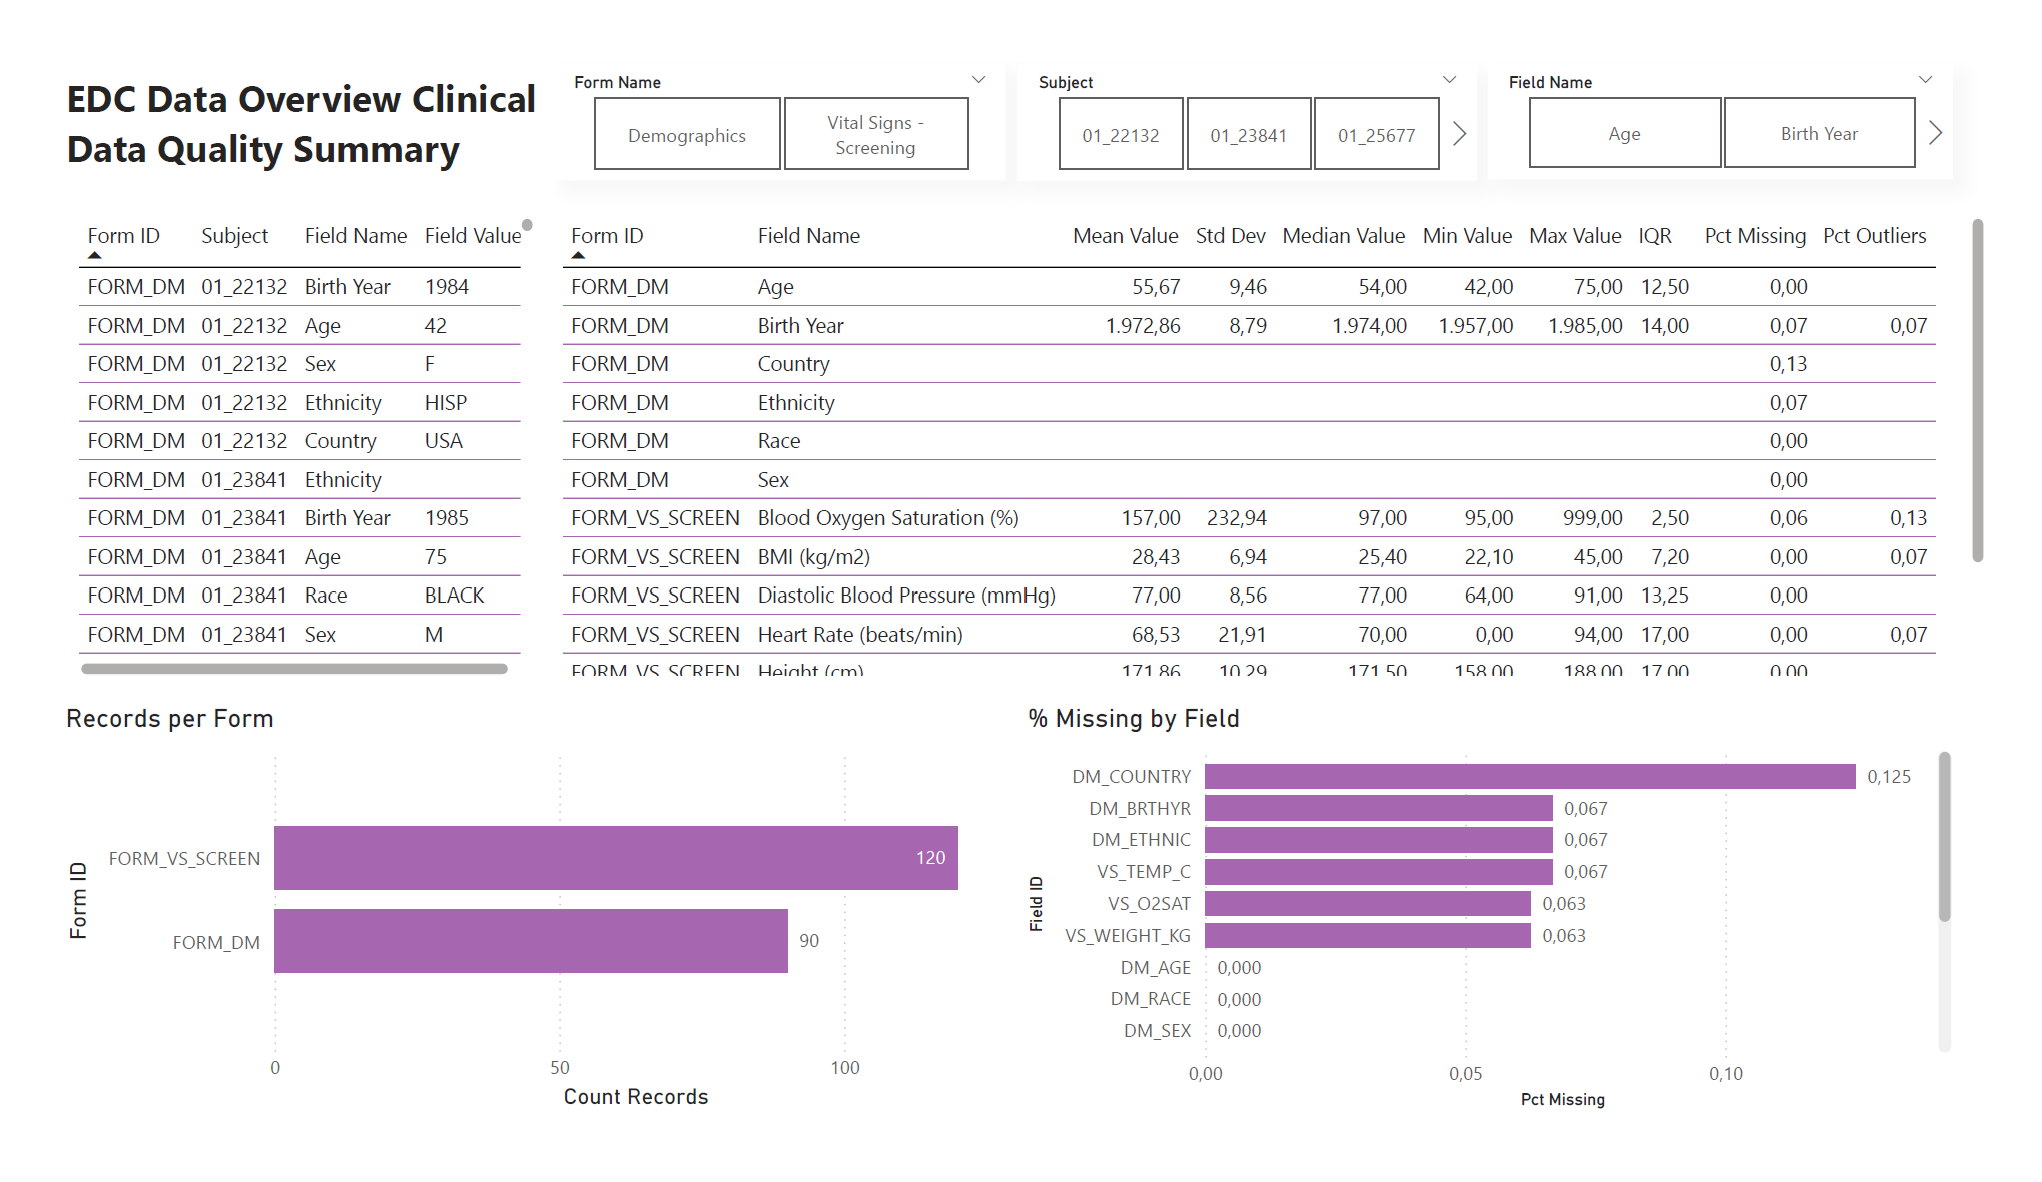

The dashboard page shown, as its layout file describes it:
{"tool":"powerbi","page":{"name":"EDC Data Overview","canvas":[1280,720],"ordinal":0},"visuals":[{"type":"tableEx","fields":{"Values":["dummy_edc_v4.Form ID","dummy_edc_v4.Subject","dummy_edc_v4.Field Name","dummy_edc_v4.Field Value"]},"box":[22.9,112.2,306,307.3],"z":0},{"type":"slicer","fields":{"Values":["dummy_edc_v4.Form Name"]},"box":[336.6,17.8,293.2,75.2],"z":1000},{"type":"tableEx","fields":{"Values":["dummy_edc_v4.Form ID","dummy_edc_v4.Field Name","dummy_edc_v4.Mean Value","dummy_edc_v4.Std Dev","dummy_edc_v4.Median Value","dummy_edc_v4.Min Value","dummy_edc_v4.Max Value","dummy_edc_v4.IQR","dummy_edc_v4.Pct Missing","dummy_edc_v4.Pct Outliers"]},"box":[336.6,112.2,933.2,307.3],"z":2000},{"type":"slicer","fields":{"Values":["dummy_edc_v4.Subject"]},"box":[638.1,17.9,297.3,75.3],"z":3000},{"type":"slicer","fields":{"Values":["dummy_edc_v4.Field Name"]},"box":[943.4,17.8,300.9,73.9],"z":4000},{"type":"clusteredBarChart","title":"Records per Form","fields":{"Category":["dummy_edc_v4.Form ID"],"Y":["dummy_edc_v4.Count Records"]},"box":[15.3,430.9,624.7,269],"z":5000},{"type":"clusteredBarChart","title":"% Missing by Field","fields":{"Category":["dummy_edc_v4.Field ID"],"Y":["dummy_edc_v4.Pct Missing"]},"box":[638.7,430.9,609.4,270.3],"z":6000},{"type":"textbox","box":[15.3,17.8,321.3,94.3],"z":7000}]}

Visuals, with their boxes in screenshot pixels (x1, y1, x2, y2), scaled from the page's 1280x720 canvas onto the 2042x1182 screenshot:
tableEx - dummy_edc_v4.Form ID x dummy_edc_v4.Subject: box=[37, 184, 525, 689]
slicer - dummy_edc_v4.Form Name: box=[537, 29, 1005, 153]
tableEx - dummy_edc_v4.Form ID x dummy_edc_v4.Field Name: box=[537, 184, 2026, 689]
slicer - dummy_edc_v4.Subject: box=[1018, 29, 1492, 153]
slicer - dummy_edc_v4.Field Name: box=[1505, 29, 1985, 151]
"Records per Form" clusteredBarChart: box=[24, 707, 1021, 1149]
"% Missing by Field" clusteredBarChart: box=[1019, 707, 1991, 1151]
textbox: box=[24, 29, 537, 184]
